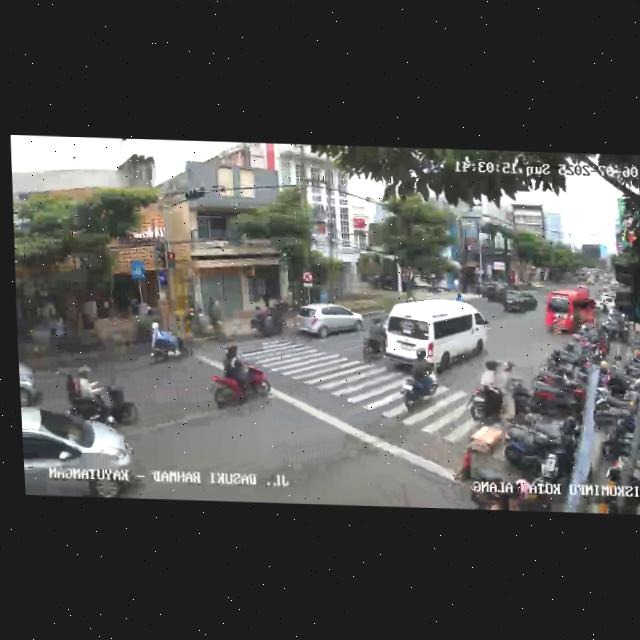car: (21, 413, 143, 498), (374, 298, 490, 375), (289, 301, 364, 344), (543, 287, 600, 337), (18, 356, 44, 413), (501, 288, 539, 317)
motorcycle: (51, 362, 139, 427), (206, 344, 273, 415), (466, 358, 534, 425), (395, 346, 442, 417), (145, 319, 191, 366), (248, 304, 286, 341), (362, 317, 385, 363)
